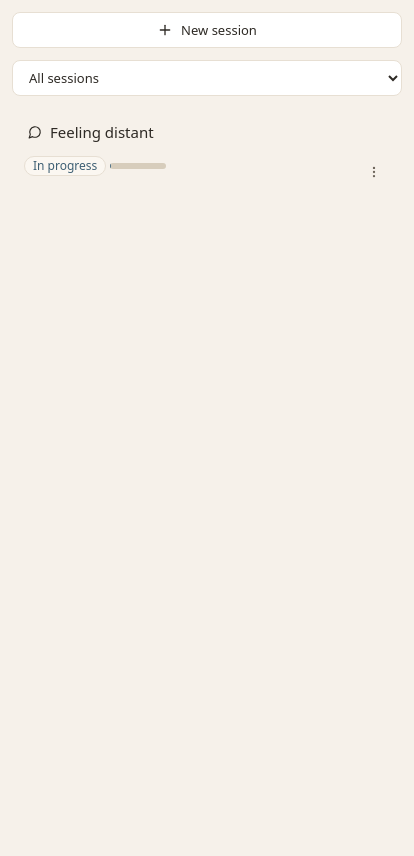
Test: Sessions › offers "Wrap up & reflect" below the composer → ends + summarizes on demand (09 §14.2)
Click the button "Feeling distant" at x=102, y=132, box [16,112,398,152]
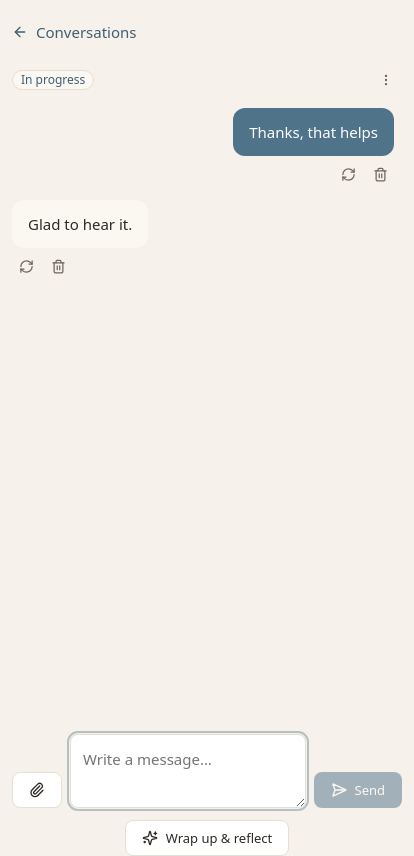
# The manual wrap-up button is offered for an in-progress session with messages.
Click the button "Wrap up & reflect" at x=207, y=838, box [125,820,289,855]
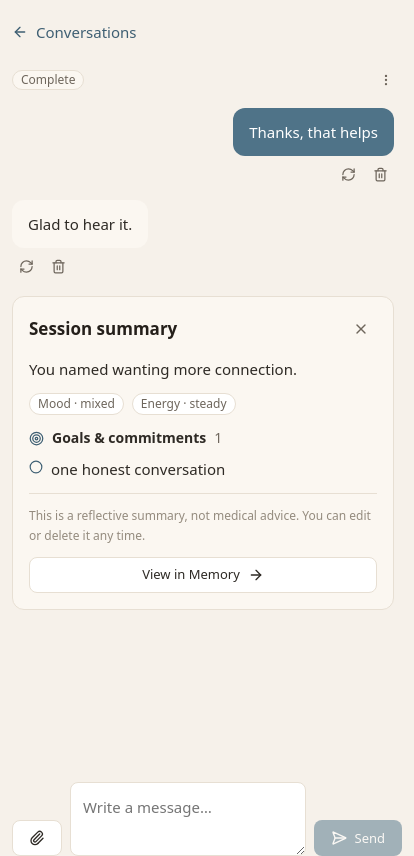
Now the text "You named wanting more connection." is shown, box [29,359,297,379]
Now the button "Wrap up & reflect" is gone
